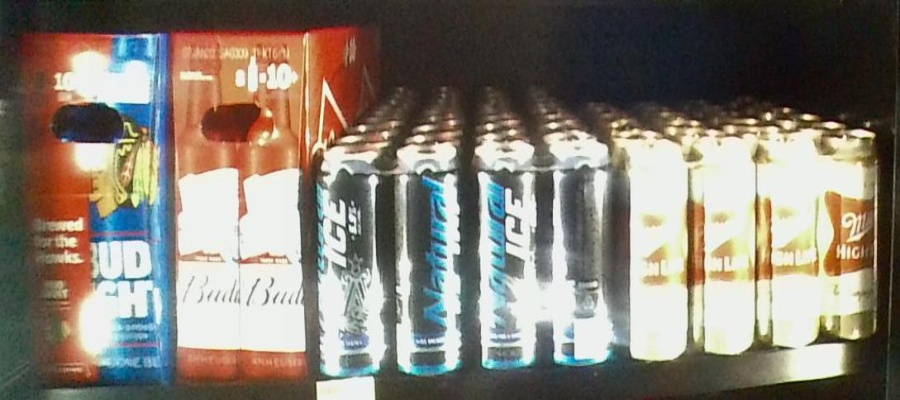bottle: (21, 29, 172, 382), (172, 29, 317, 378), (317, 153, 464, 379), (467, 146, 606, 369), (618, 147, 758, 355), (766, 134, 877, 346)
